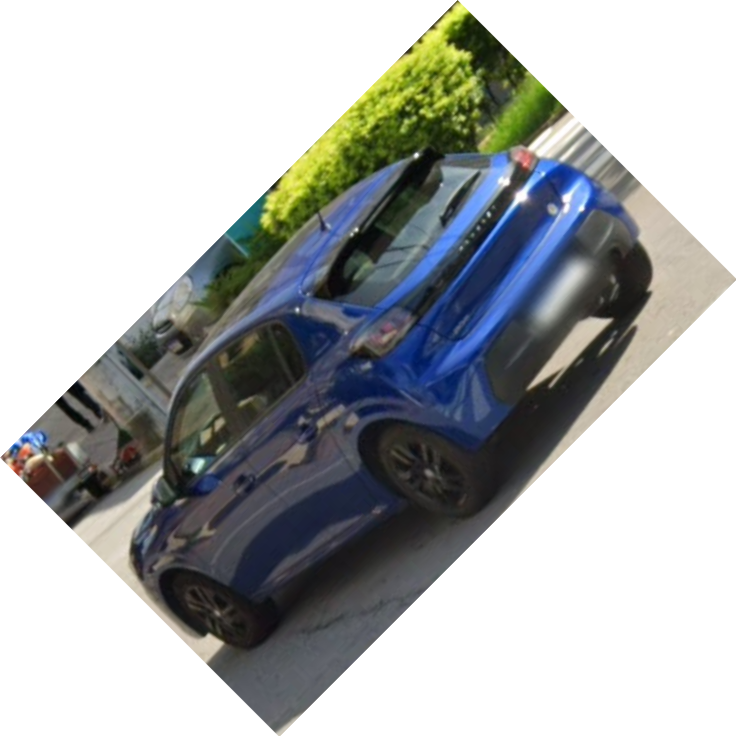car: (123, 143, 657, 650)
